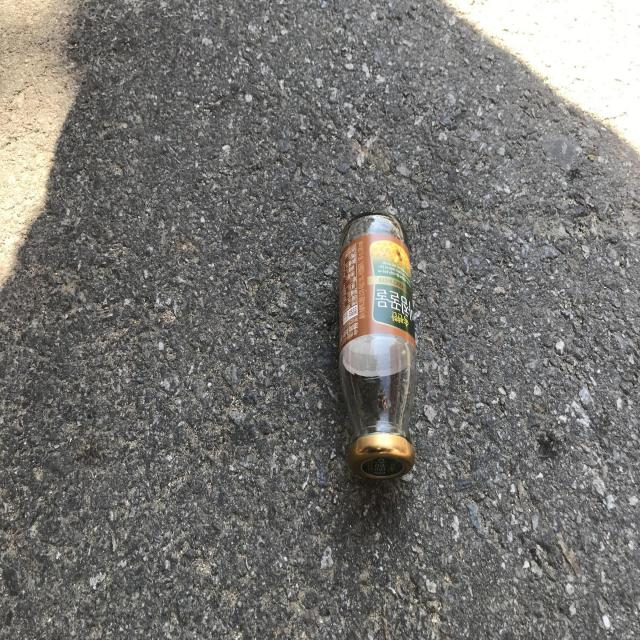glass: (339, 212, 417, 479)
